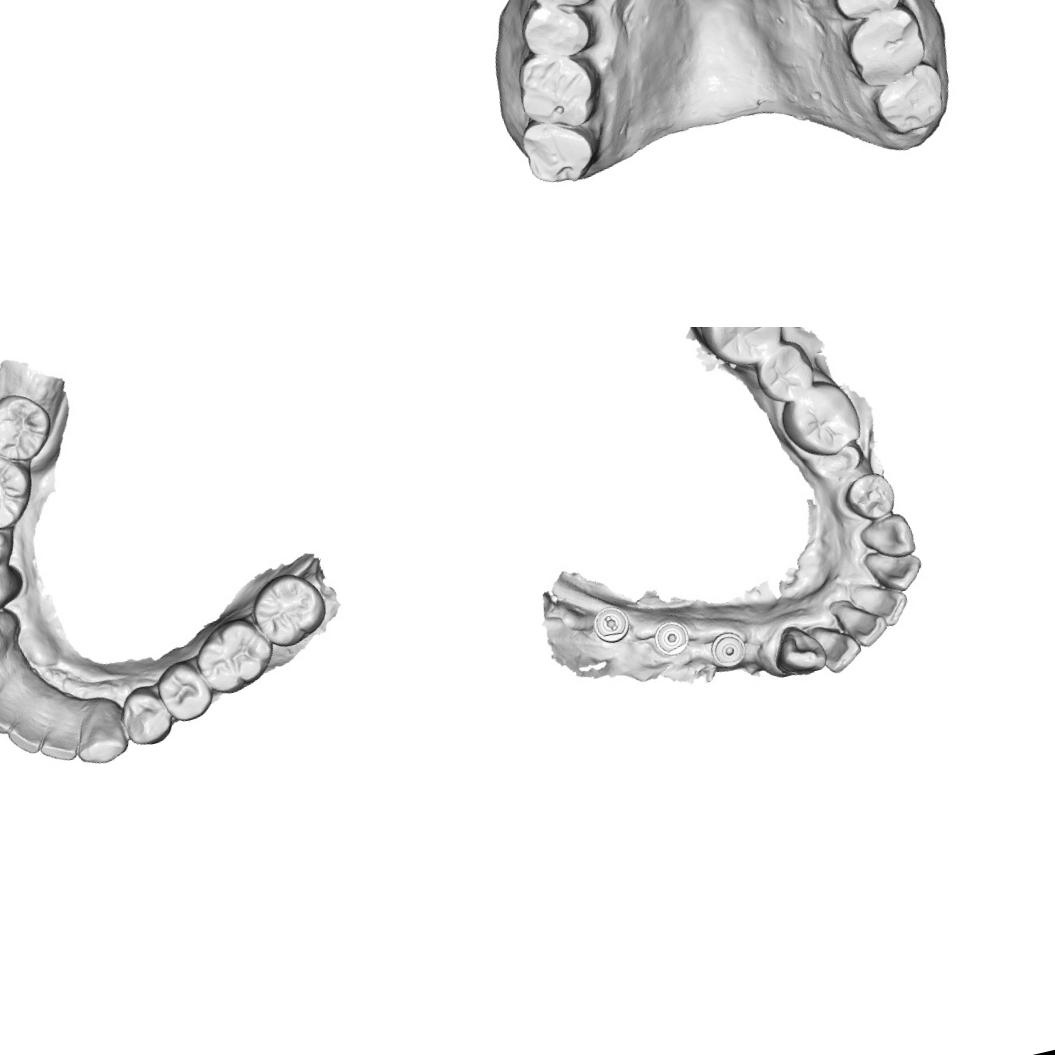canine: (65, 701, 136, 771), (768, 618, 831, 682), (856, 510, 918, 566), (0, 603, 16, 674)
implant: (706, 628, 750, 671), (651, 616, 692, 660)
implant_minus: (588, 601, 634, 647)
incisor: (830, 590, 891, 653), (863, 541, 927, 598), (851, 575, 913, 633), (808, 616, 866, 678), (4, 707, 51, 760), (36, 718, 80, 764), (0, 694, 21, 742)
molar: (506, 41, 606, 140), (773, 373, 866, 465), (839, 2, 933, 92), (188, 610, 280, 700), (514, 110, 603, 194), (246, 568, 331, 654), (868, 58, 956, 140), (750, 335, 820, 408), (691, 327, 790, 377), (0, 386, 56, 469), (0, 444, 42, 537)
premolar: (515, 0, 601, 66), (110, 678, 178, 752), (156, 658, 220, 726), (840, 468, 900, 524), (825, 0, 910, 27), (521, 0, 605, 18), (0, 558, 22, 623)
